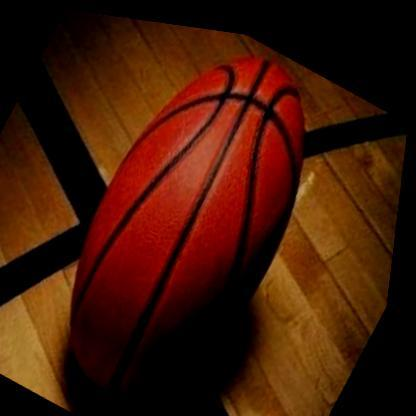basketball: (12, 6, 368, 416)
